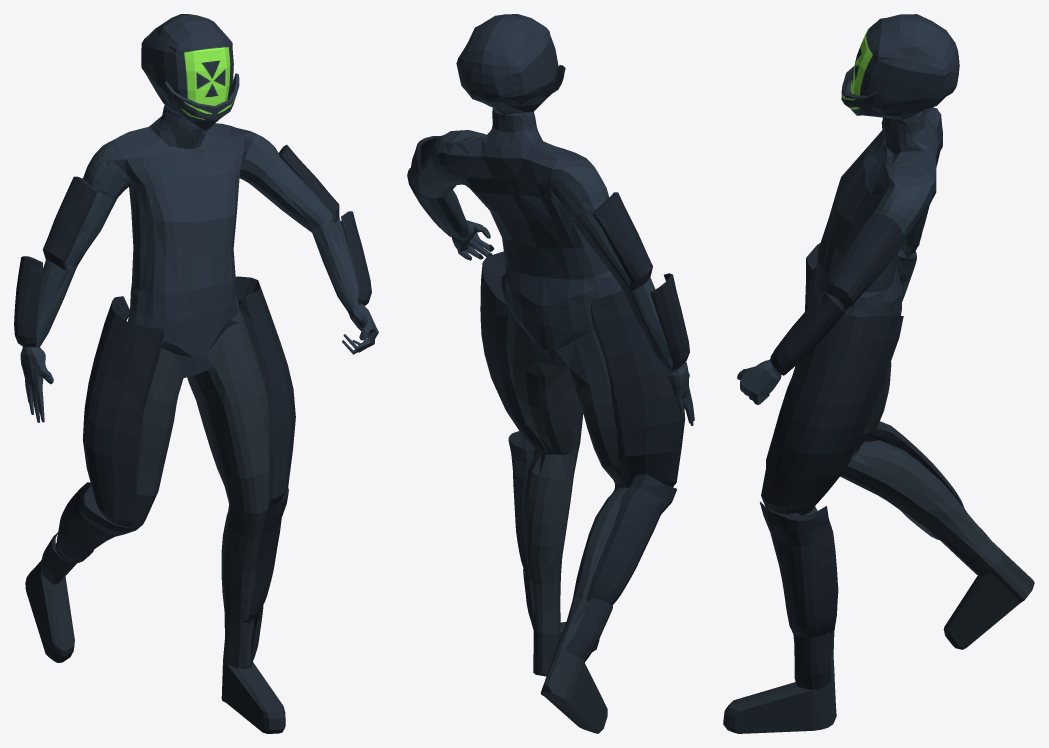
File: Bastion_Hit_000009.obj
The picture shows the model from 3 angles, left to right: view 1: azimuth 30°, elevation 25°; view 2: azimuth 150°, elevation 25°; view 3: azimuth 270°, elevation 25°; orthographic projection. The views are drawn at different scales.
Visible parts, largest first — view 1: Cube.002; view 2: Cube.002; view 3: Cube.002.
Boxes of the visible parts, box(x1,y1,x2,y2) form: Cube.002: box(14, 14, 378, 733); Cube.002: box(407, 14, 694, 733); Cube.002: box(723, 14, 1034, 733).
Bounding box in the file's own units: 1.83 × 3.81 × 1.52.
